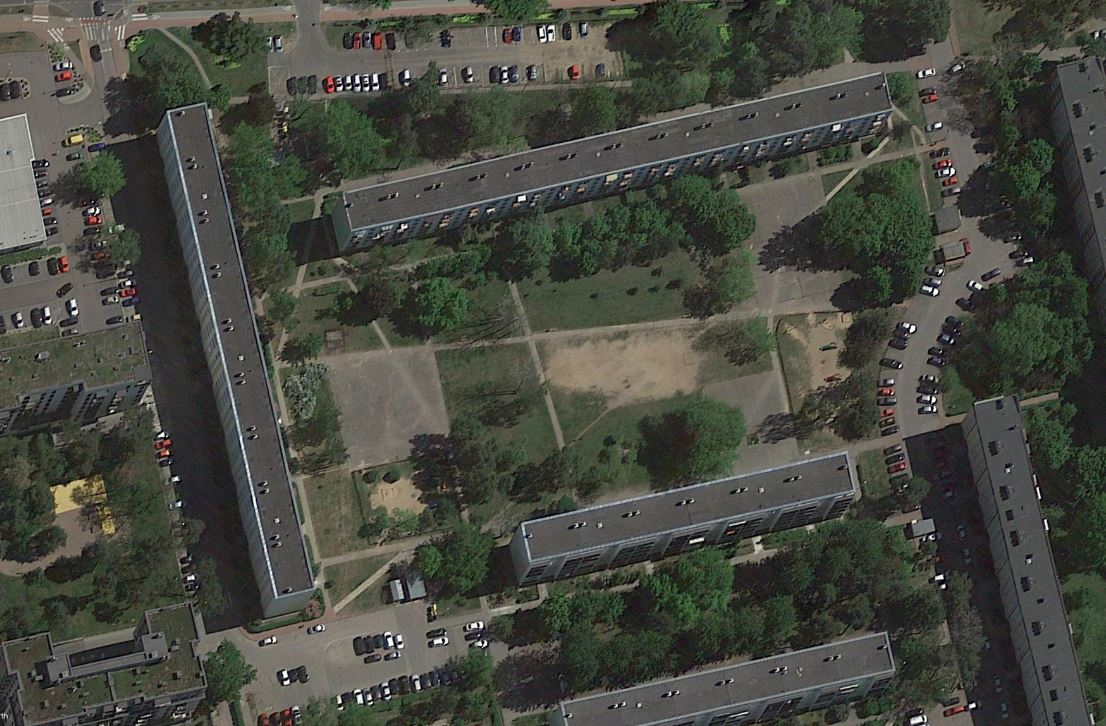block of flats: (310, 54, 929, 267), (134, 96, 334, 631), (501, 440, 881, 600), (952, 390, 1106, 723), (544, 616, 914, 726)
